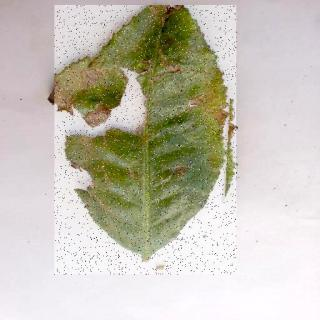Algal Leaf: (56, 7, 238, 277)
